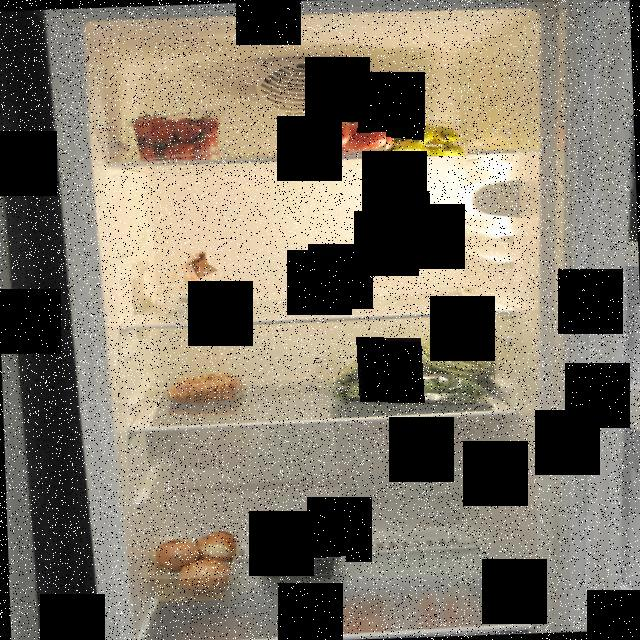banana: (386, 115, 469, 156)
blueberries: (258, 541, 346, 580)
flour: (158, 246, 220, 314)
green_beans: (328, 324, 496, 380)
onion: (152, 528, 236, 592)
shrimp: (168, 374, 242, 402)
spinach: (316, 336, 494, 408)
strawberries: (126, 108, 230, 162)
tomato: (288, 107, 396, 159)
